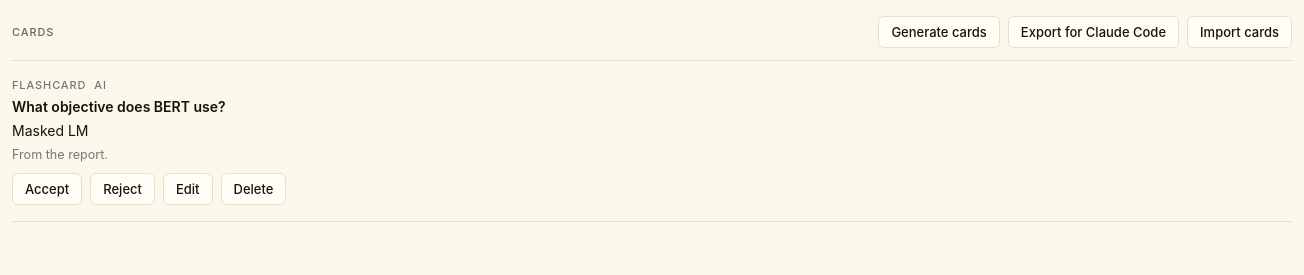
Test: CardsView › rolls back and shows an error when accept fails
Click the button "Accept" at x=47, y=189, box x1=12 y1=173 x2=82 y2=205
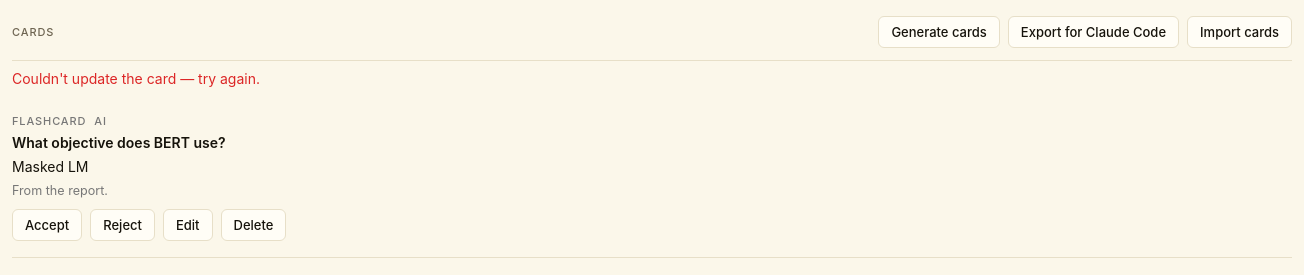
Check: the button "Accept" is shown, box x1=12 y1=209 x2=82 y2=241
Check: the message "Couldn't update the card — try again." is shown, box x1=12 y1=70 x2=260 y2=87
